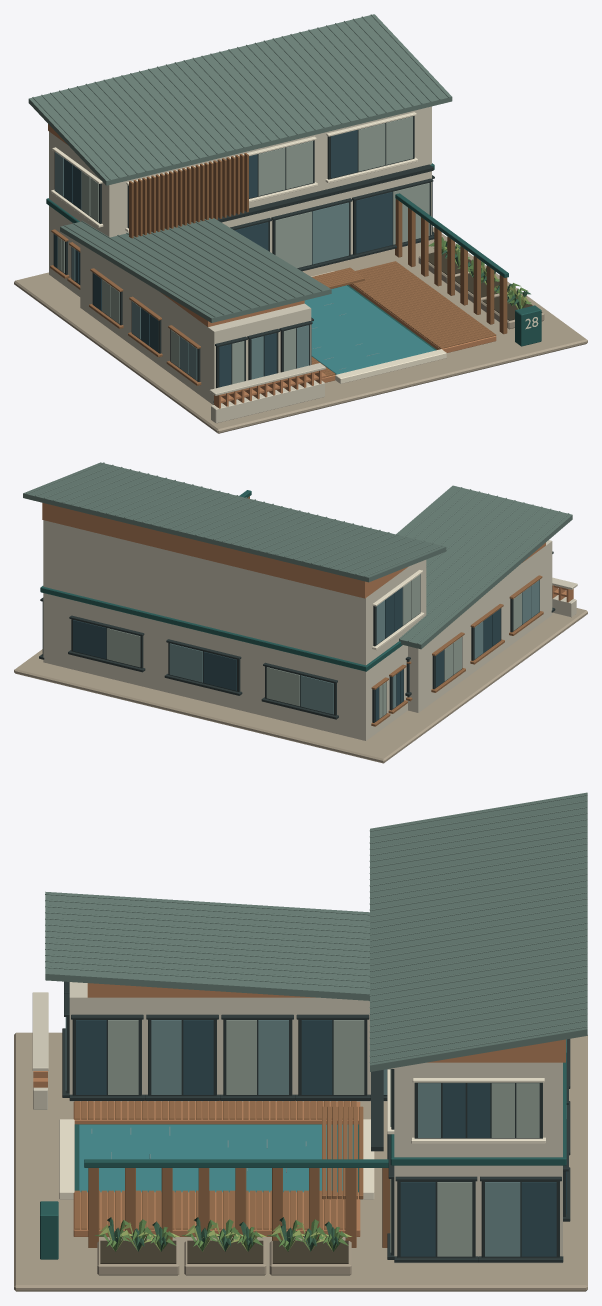
3 renders of one model, top to bottom at view 1: azimuth 30°, elevation 25°; view 2: azimuth 150°, elevation 25°; view 3: azimuth 270°, elevation 25°, orthographic. The views are drawn at different scales.
Visible parts, largest first — view 1: Folded metal roof, Sunken water court, Casements and sills, Courtyard pavilions, Sliding timber shades, Street threshold, Garden beds, Pandan planting; view 2: Courtyard pavilions, Folded metal roof, Casements and sills, Sunken water court, Street threshold; view 3: Folded metal roof, Sunken water court, Casements and sills, Courtyard pavilions, Sliding timber shades, Garden beds, Pandan planting, Street threshold.
Part boxes in pixels (bbox=[...]): Folded metal roof: bbox=[28, 14, 452, 322]; Sunken water court: bbox=[14, 227, 587, 433]; Casements and sills: bbox=[50, 112, 434, 402]; Courtyard pavilions: bbox=[46, 106, 434, 404]; Sliding timber shades: bbox=[129, 153, 508, 334]; Street threshold: bbox=[209, 305, 541, 423]; Garden beds: bbox=[418, 252, 544, 329]; Pandan planting: bbox=[428, 237, 531, 309]; Courtyard pavilions: bbox=[40, 503, 552, 740]; Folded metal roof: bbox=[23, 462, 572, 649]; Casements and sills: bbox=[39, 551, 555, 726]; Sunken water court: bbox=[14, 608, 587, 763]; Street threshold: bbox=[552, 577, 577, 617]; Folded metal roof: bbox=[45, 792, 587, 1071]; Sunken water court: bbox=[14, 1032, 587, 1291]; Casements and sills: bbox=[62, 981, 570, 1262]; Courtyard pavilions: bbox=[69, 982, 566, 1263]; Sliding timber shades: bbox=[84, 1070, 390, 1247]; Garden beds: bbox=[97, 1240, 351, 1275]; Pandan planting: bbox=[95, 1217, 351, 1251]; Street threshold: bbox=[32, 992, 58, 1259].
Bounding box in the file's own units: 16.67 × 7.88 × 15.92.
